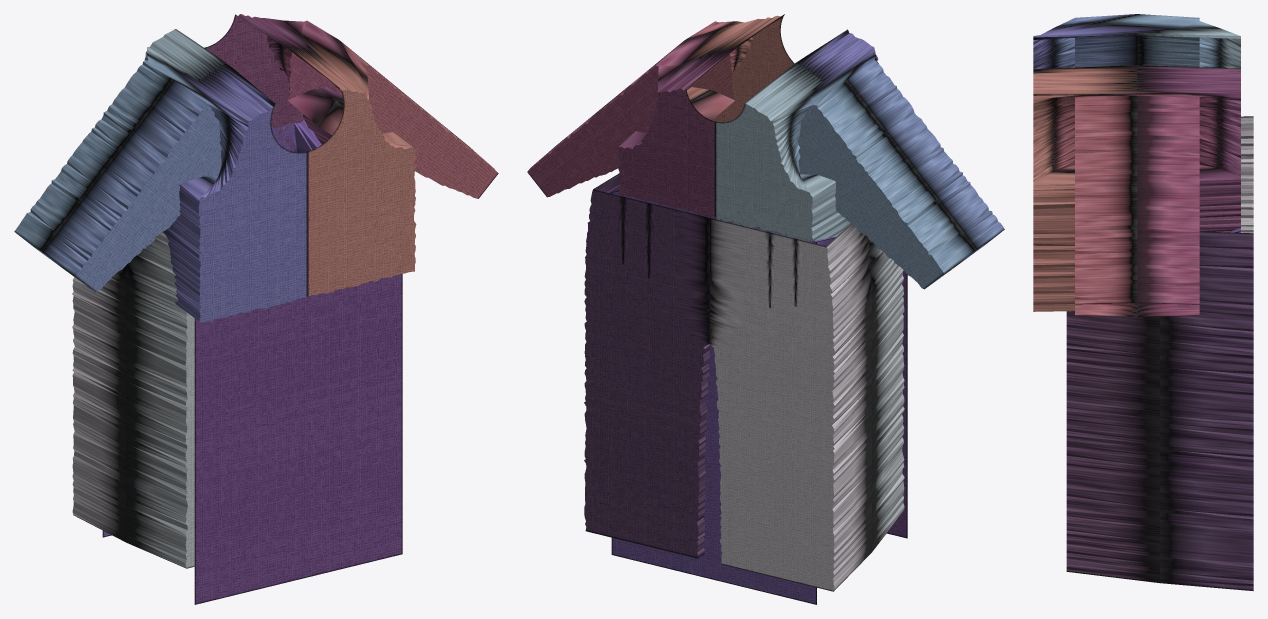
The model's file is ao_dai_boxmesh.obj.
3 renders of one model, left to right at view 1: azimuth 30°, elevation 25°; view 2: azimuth 150°, elevation 25°; view 3: azimuth 270°, elevation 25°, orthographic. The views are drawn at different scales.
Size of the model in its own units: 121 by 134 by 53.
1 material, 1 textured.
